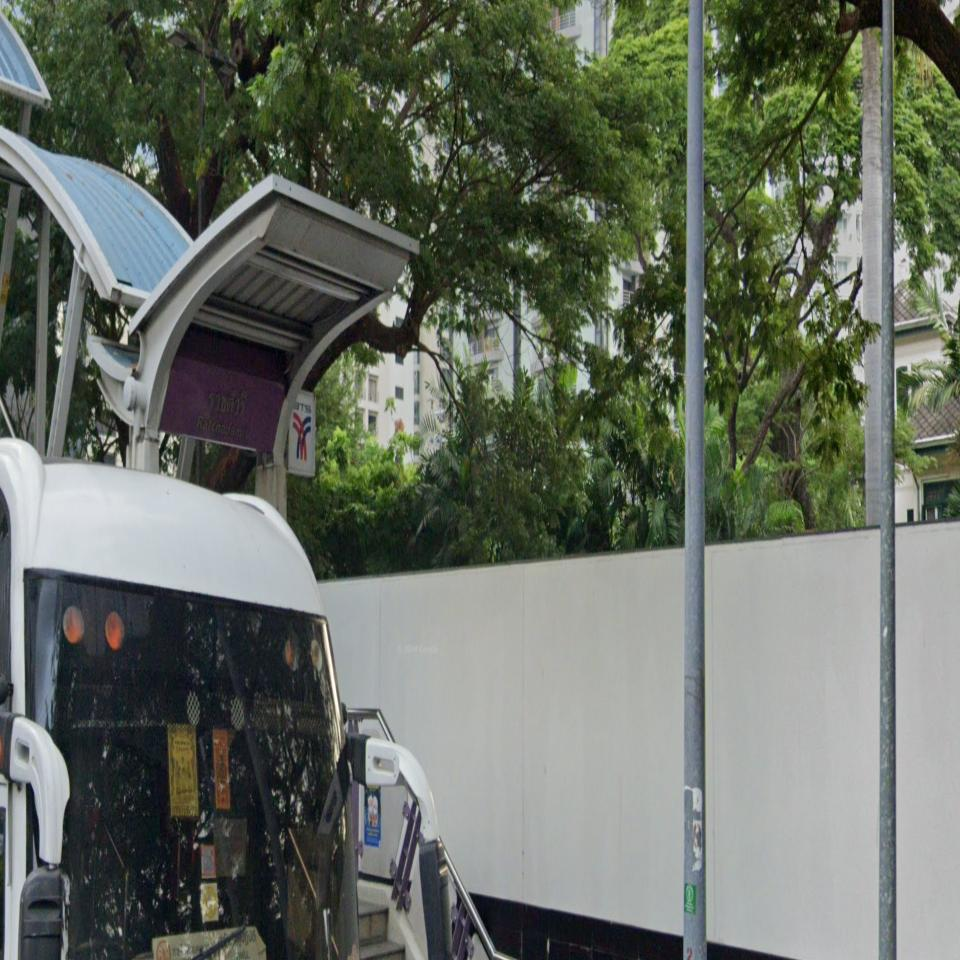Ratchadamri: (160, 355, 316, 476), (158, 355, 286, 453)
